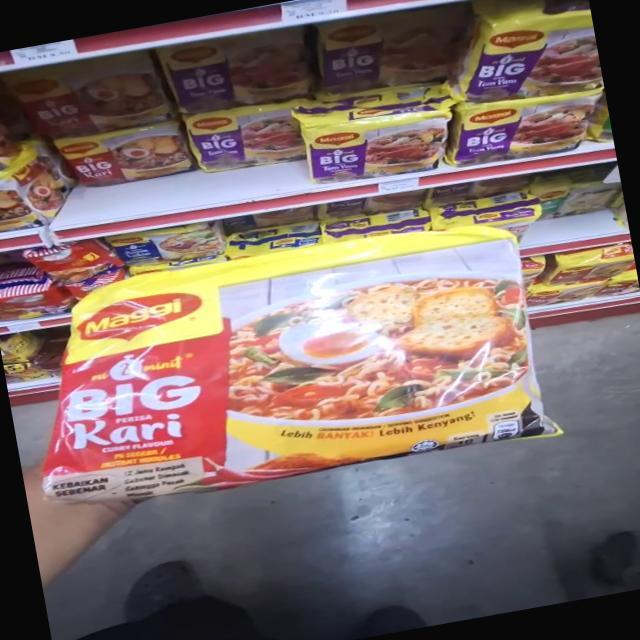Maggi: (59, 202, 569, 528)
